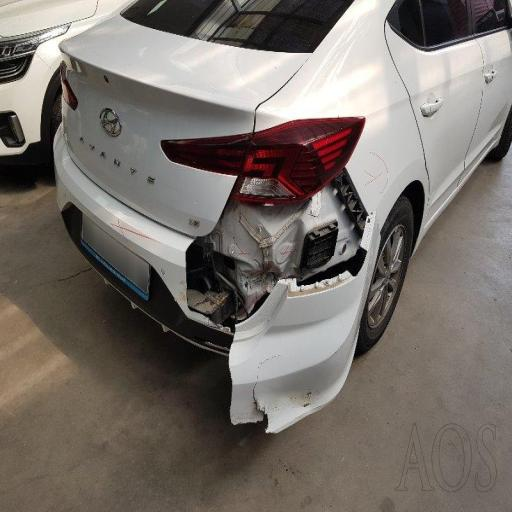broken: (157, 53, 390, 440)
